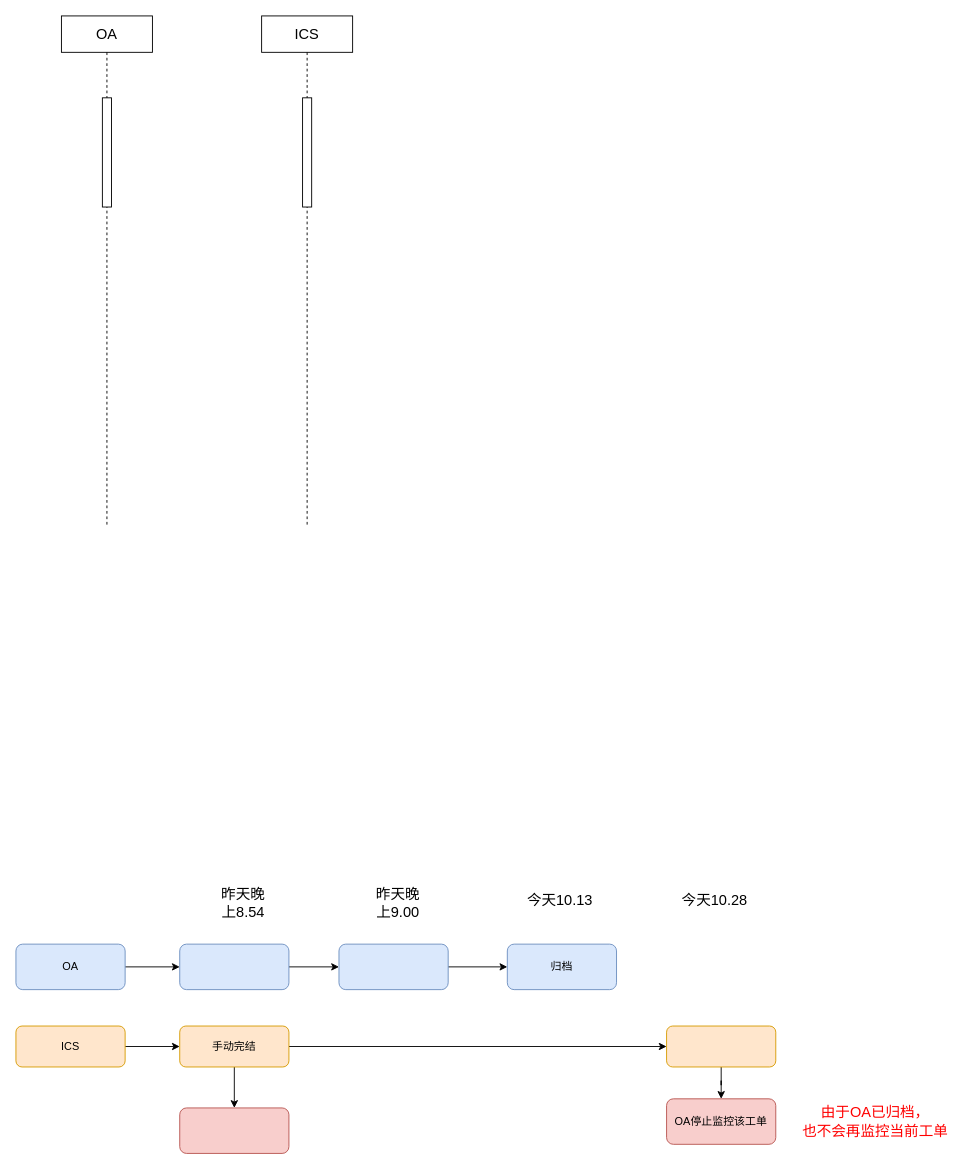
Image size: 973x1169. Some labels were removed from this diagram. Each missing label, with the centre of its shape:
"OA停止该工单监控" goes at [234,1130].
"发起节点" goes at [234,966].
"手动重新开启" goes at [721,1046].
"风控处理" goes at [393,966].
